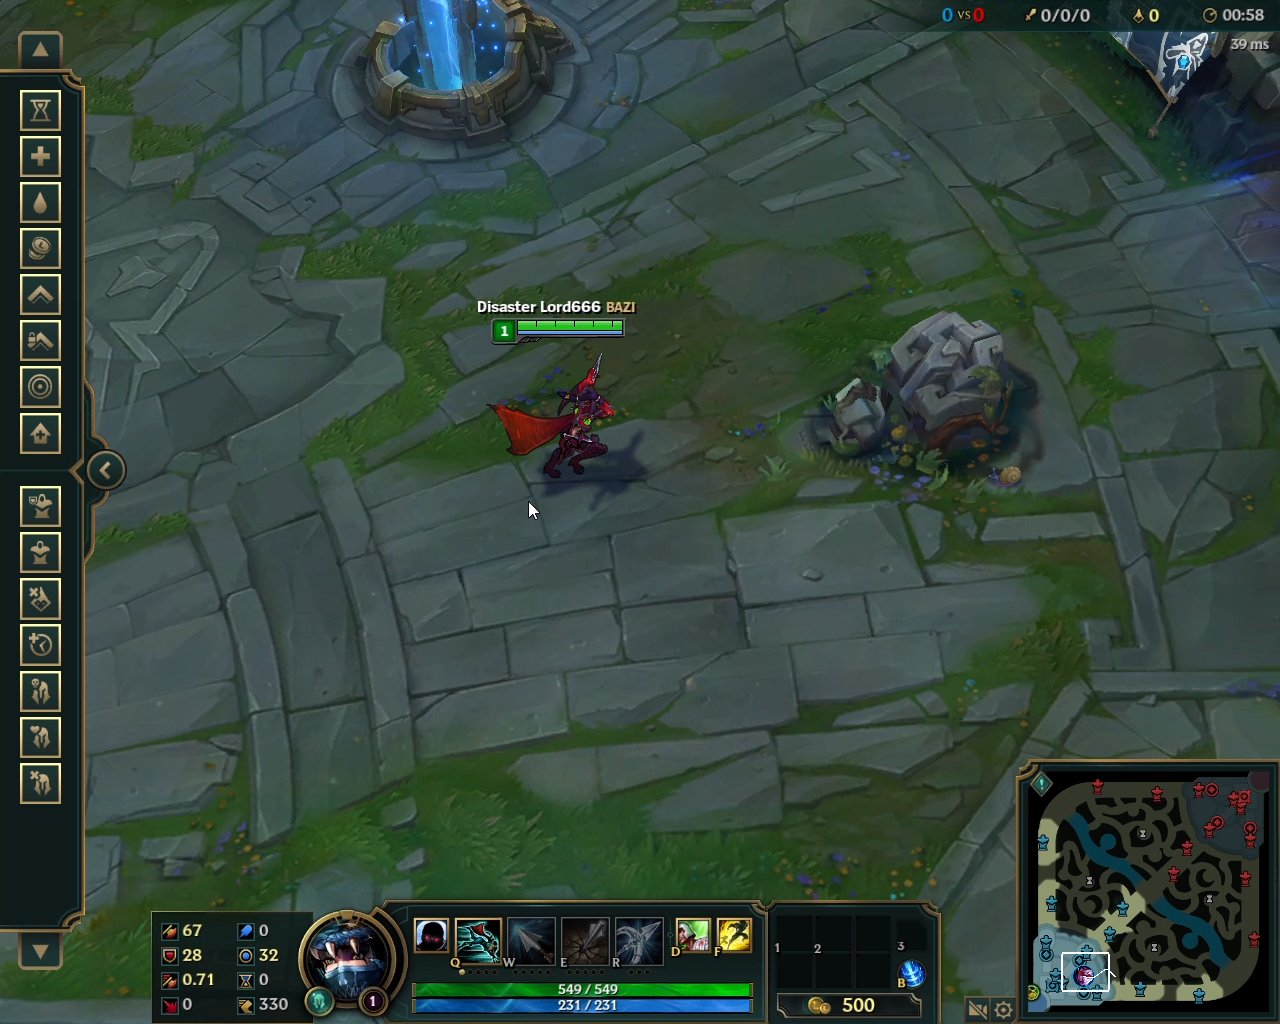Vayne: (478, 344, 627, 485)
